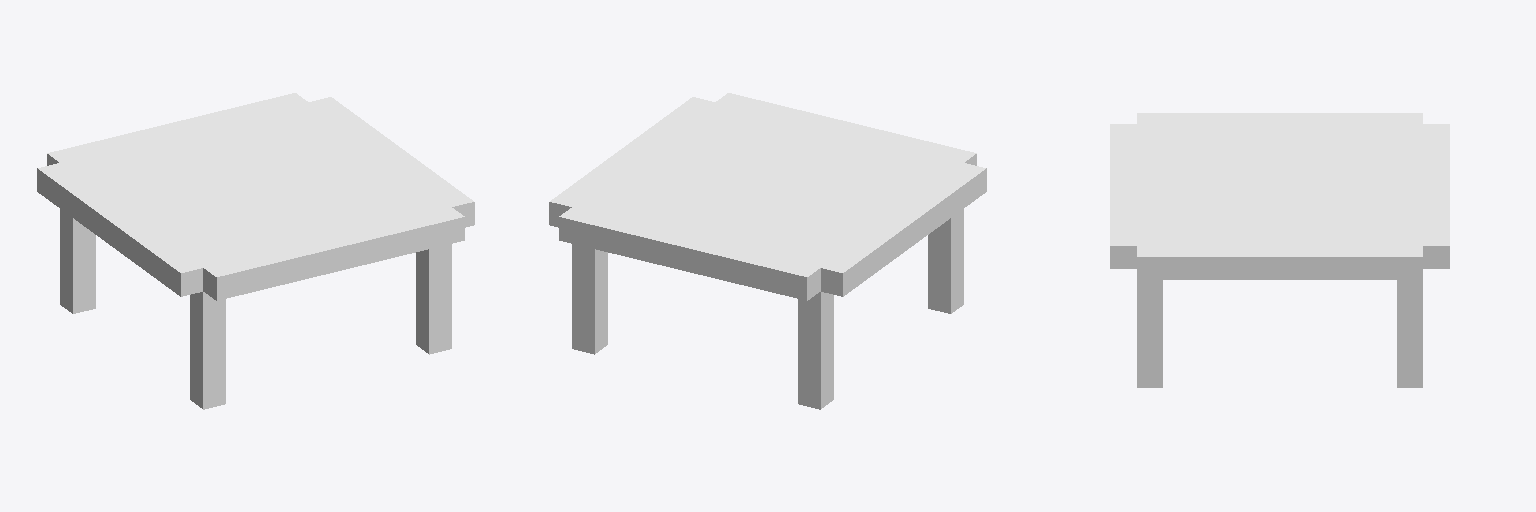
The model's file is house_heya_desk.obj.
3 views of the same model, side by side, from view 1: azimuth 30°, elevation 25°; view 2: azimuth 150°, elevation 25°; view 3: azimuth 270°, elevation 25° (orthographic).
Bounding box in the file's own units: 13 × 6 × 13.